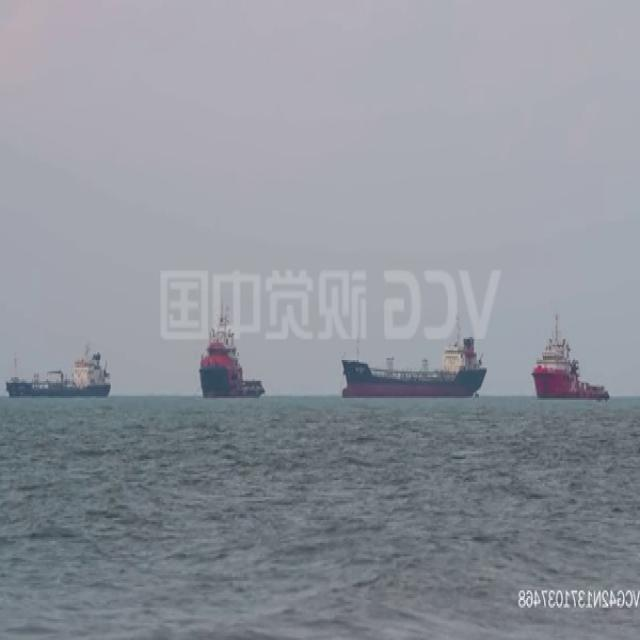cargoship: (338, 326, 490, 397), (534, 314, 616, 396), (198, 308, 266, 396)
